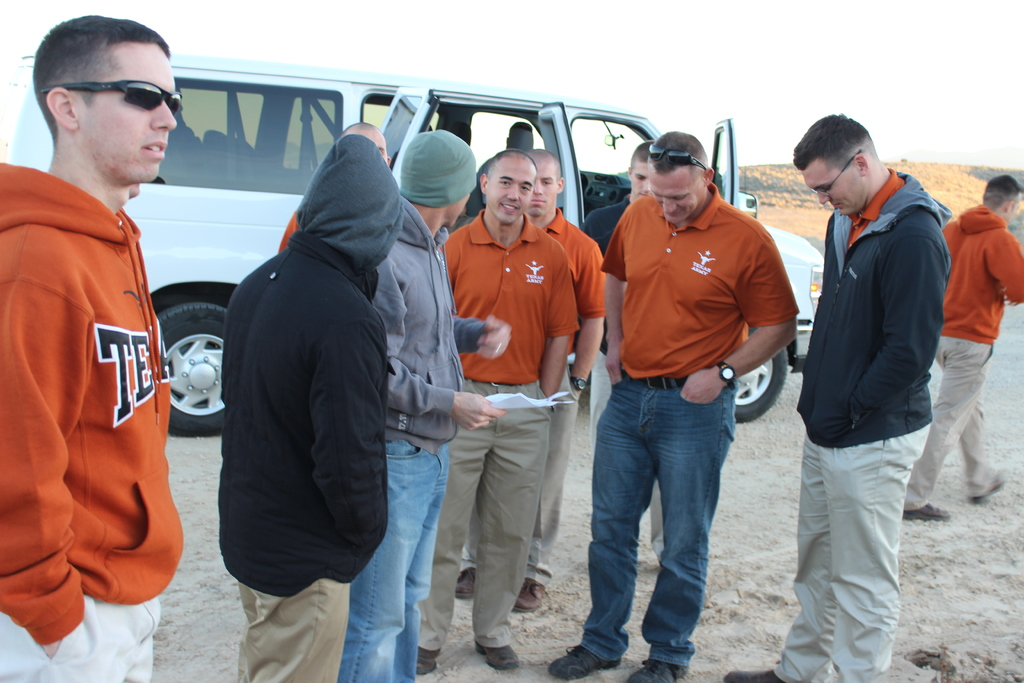Footwear: (546, 649, 625, 682), (478, 638, 524, 671), (515, 575, 553, 611), (630, 661, 688, 682), (903, 498, 949, 523), (454, 566, 482, 603), (417, 642, 444, 677), (722, 668, 789, 682), (975, 473, 1004, 503)
